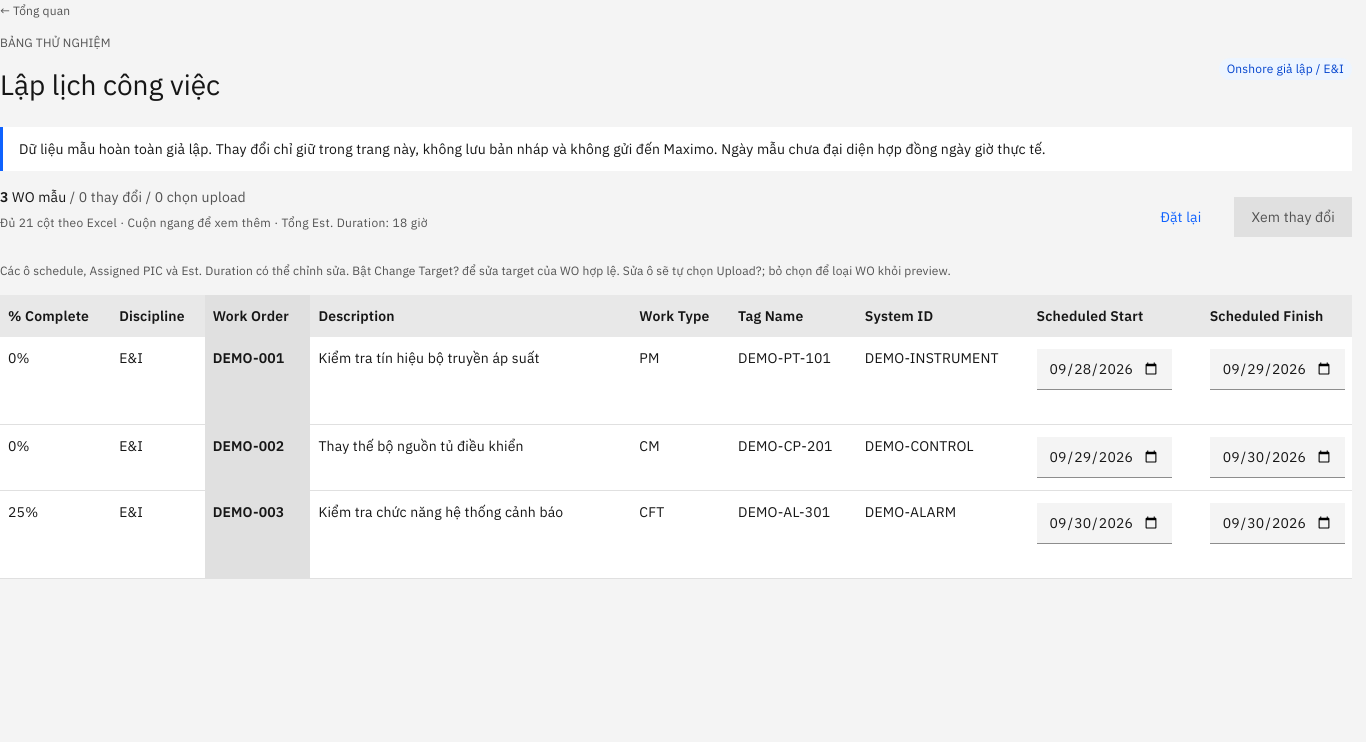
Test case: synthetic scheduling preview › previews changes without enabling an upload and resets edits
Type "2026-10-01" into the date field named "DEMO-001 Scheduled Finish" at (1277, 370), box [1210,349,1345,390]
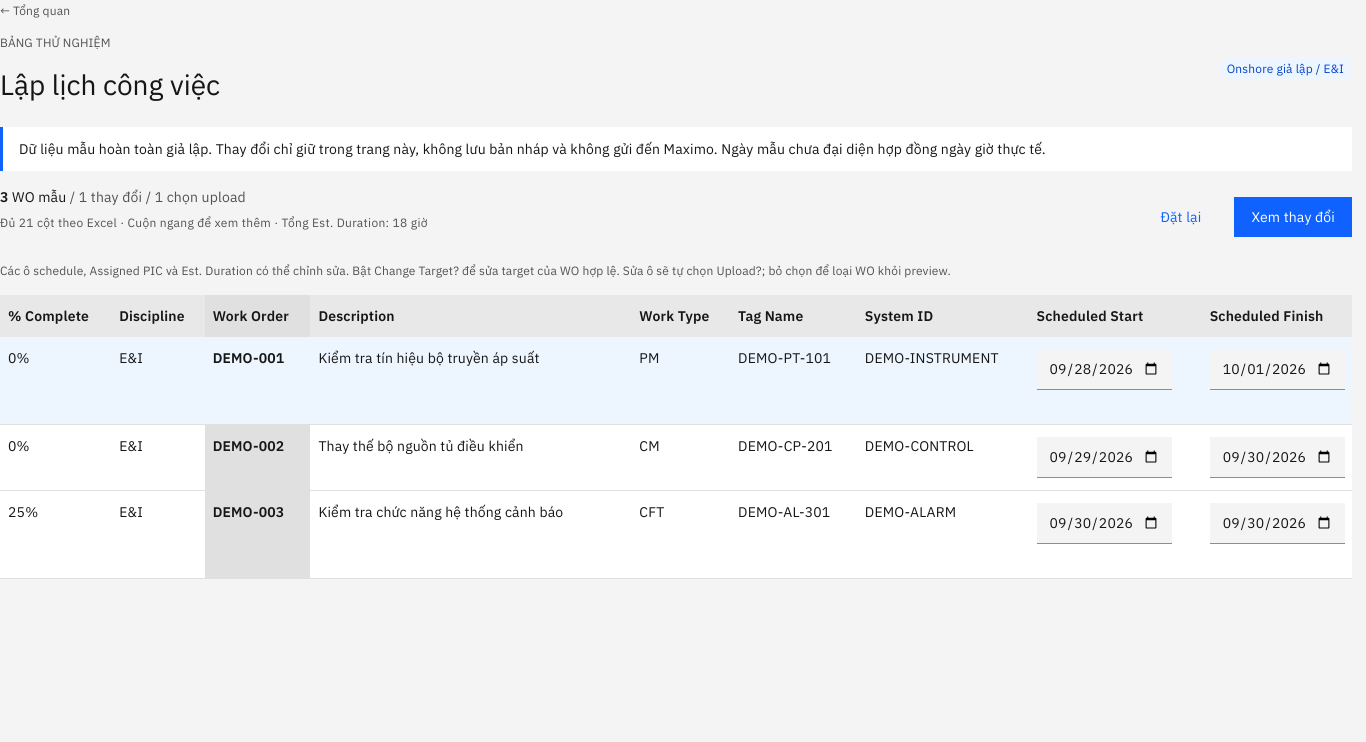
Click the button "Xem thay đổi" at (1293, 217), box [1234,197,1352,237]
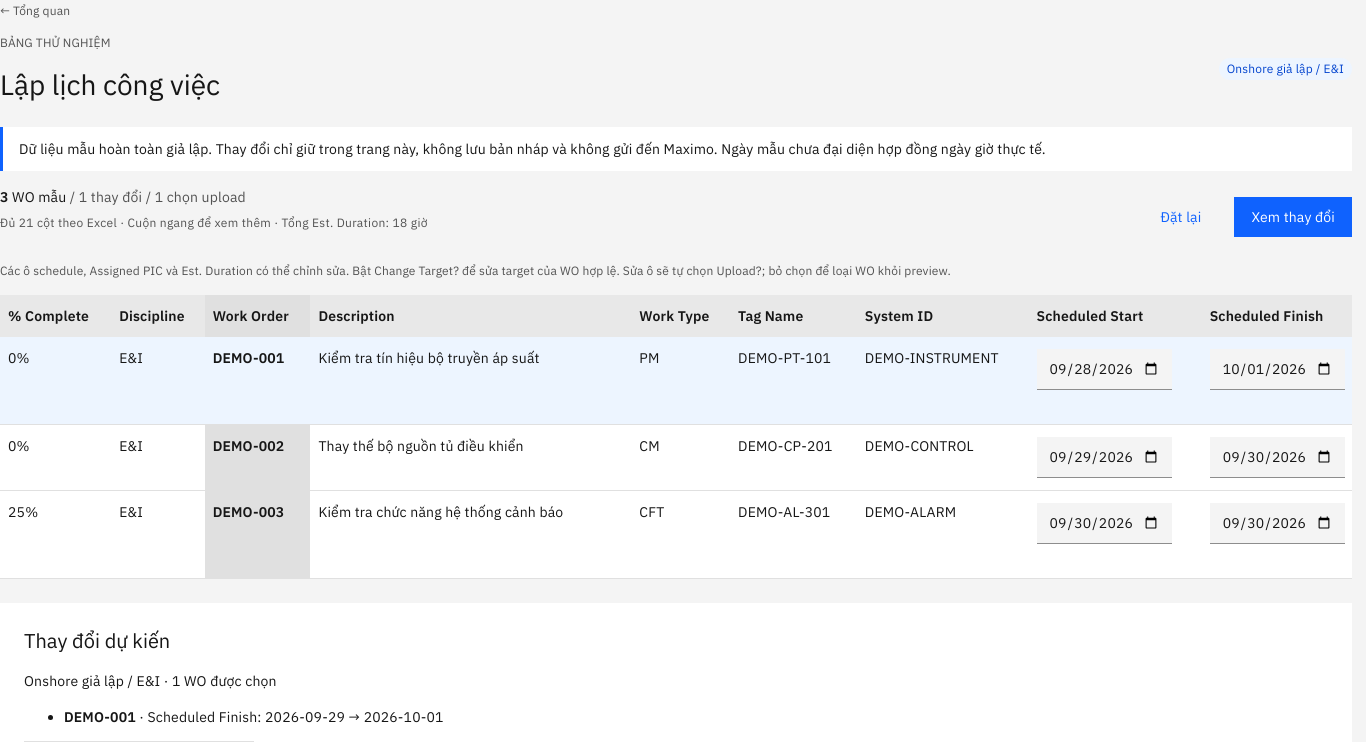
Now the list item "DEMO-001 · Scheduled Finish: 2026-09-29 → 2026-10-01" is shown, box [64,708,444,726]
Click the button "Đặt lại" at (1181, 217), box [1143,197,1218,237]
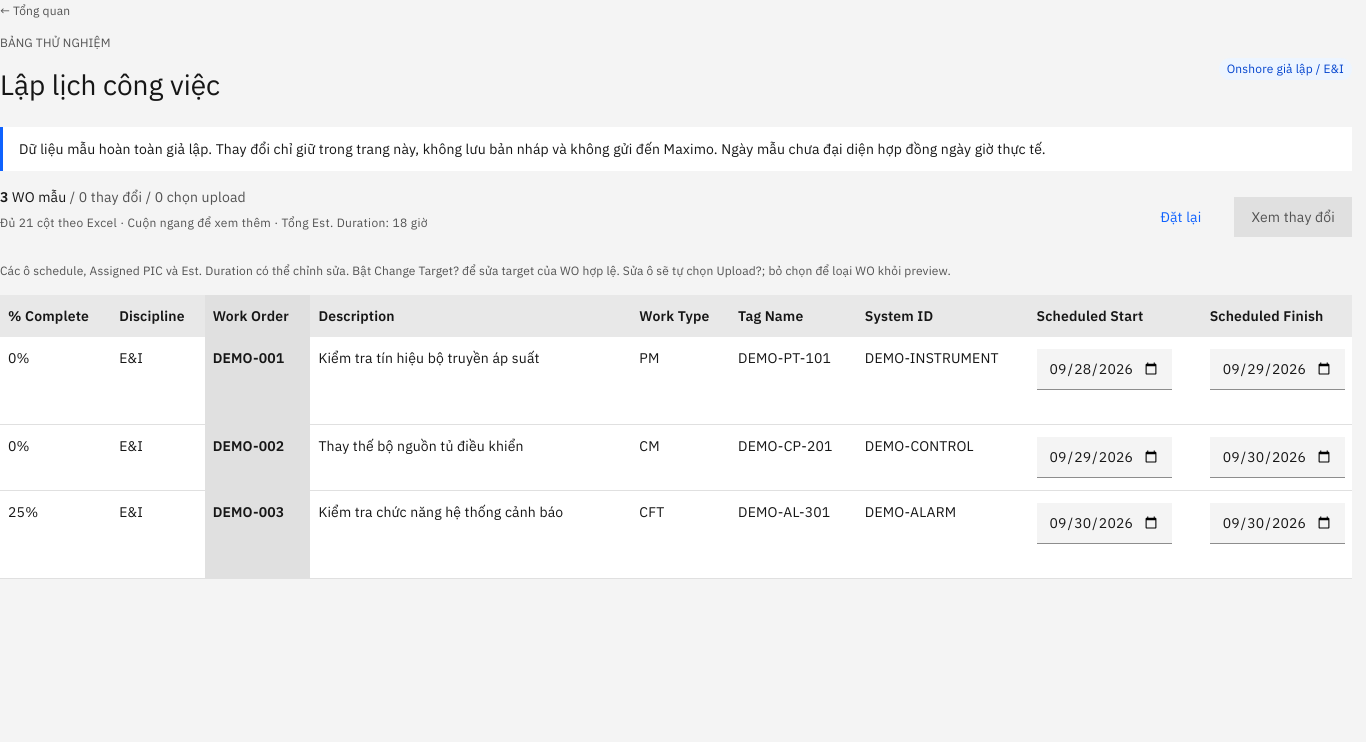
Now the date field named "DEMO-001 Scheduled Finish" holds "2026-09-29", box [1210,349,1345,390]
Now the heading "Thay đổi dự kiến" is gone
